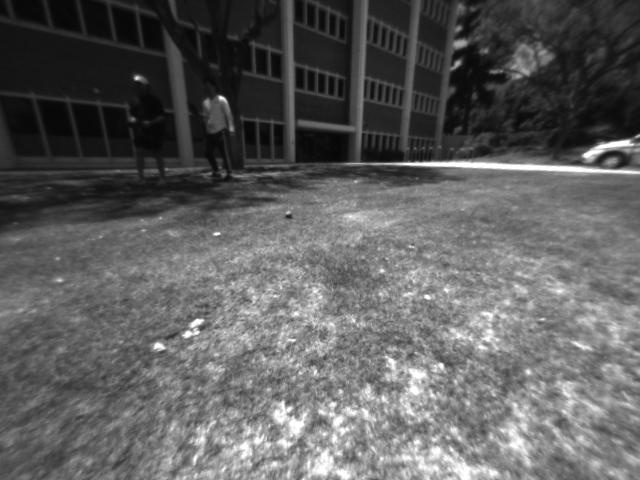dogtoy: (276, 201, 303, 228)
